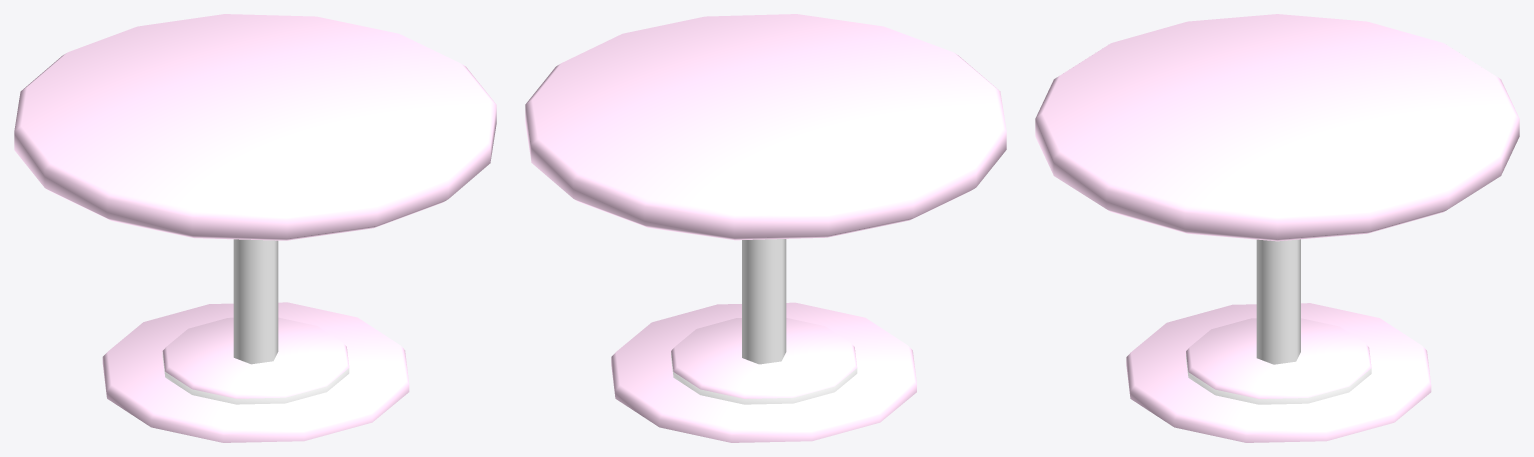
File: CoffeeTable1.glb
3 renders of one model, left to right at view 1: azimuth 30°, elevation 25°; view 2: azimuth 150°, elevation 25°; view 3: azimuth 270°, elevation 25°, orthographic.
Visible parts, largest first — view 1: CoffeeTable1; view 2: CoffeeTable1; view 3: CoffeeTable1.
Part boxes in pixels (left/top/right/bottom): CoffeeTable1: left=14, top=14, right=496, bottom=442; CoffeeTable1: left=525, top=14, right=1006, bottom=442; CoffeeTable1: left=1035, top=14, right=1519, bottom=442.
Size of what is drawn, in the model's own units: 1.27 by 0.7681 by 1.27.
Materials: 2 (2 with a texture image).
